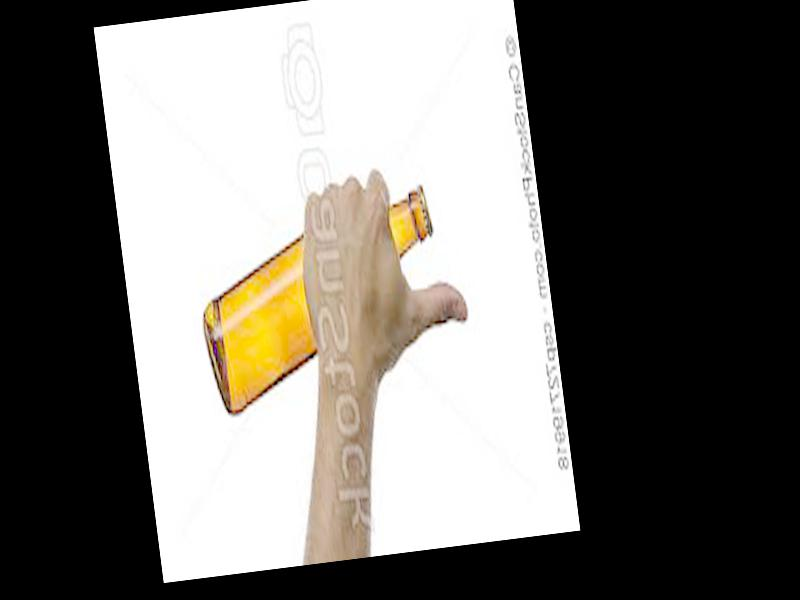Beer: (190, 187, 451, 419)
